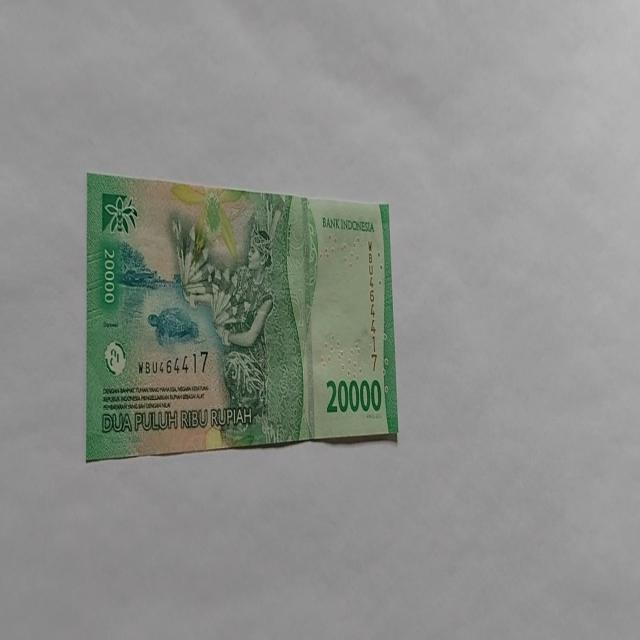dua puluh ribu rupiah: (85, 172, 399, 462)
